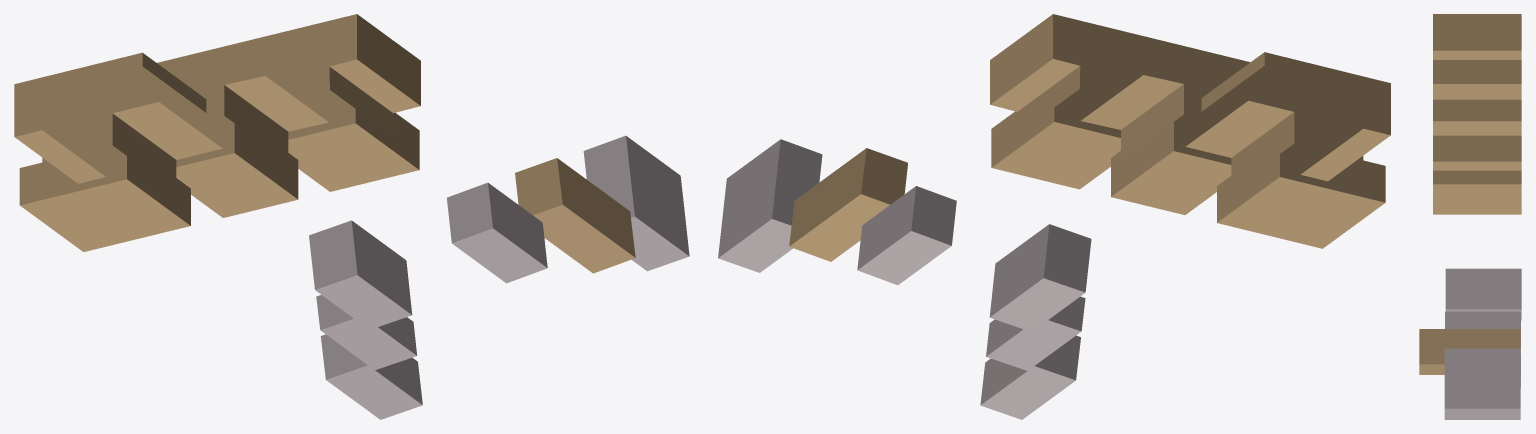
3 renders of one model, left to right at view 1: azimuth 30°, elevation 25°; view 2: azimuth 150°, elevation 25°; view 3: azimuth 270°, elevation 25°, orthographic. The views are drawn at different scales.
Visible parts, largest first — view 1: 0_0_3_2_0_1_0_1; view 2: 0_0_3_2_0_1_0_1; view 3: 0_0_3_2_0_1_0_1.
Part boxes in pixels (<box>): 0_0_3_2_0_1_0_1: <box>14,14,689,419</box>; 0_0_3_2_0_1_0_1: <box>718,14,1390,419</box>; 0_0_3_2_0_1_0_1: <box>1419,14,1521,419</box>.
Size of the model in its own units: 118 by 67.39 by 24.3.
